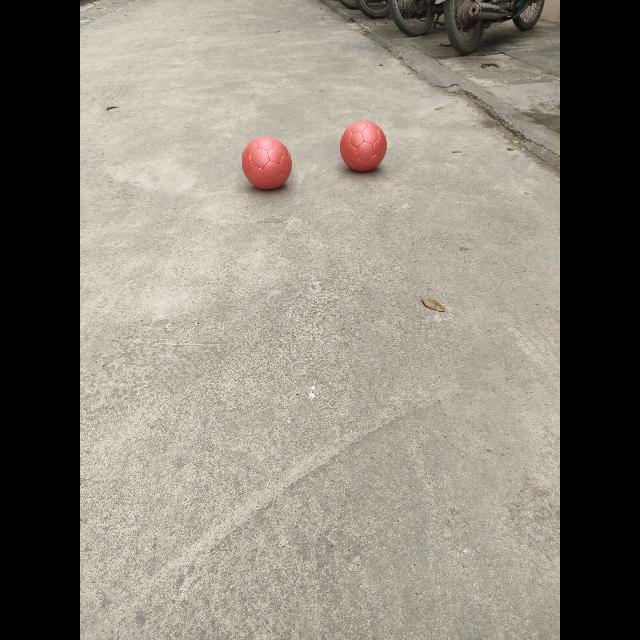R: (242, 136, 292, 190), (339, 120, 386, 172)
